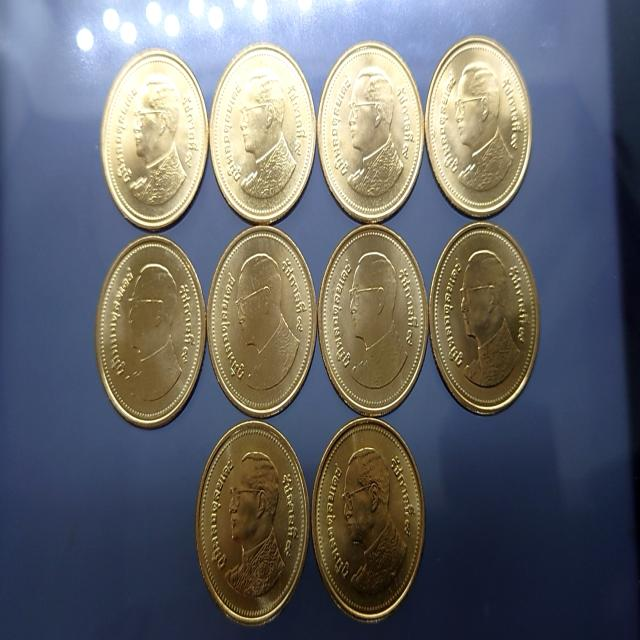2 Bath: (194, 417, 312, 629), (312, 419, 429, 627), (428, 221, 542, 418), (94, 235, 208, 431), (206, 228, 320, 422), (319, 223, 431, 416), (98, 47, 212, 233), (426, 33, 534, 221), (209, 42, 319, 225), (318, 43, 425, 225)
